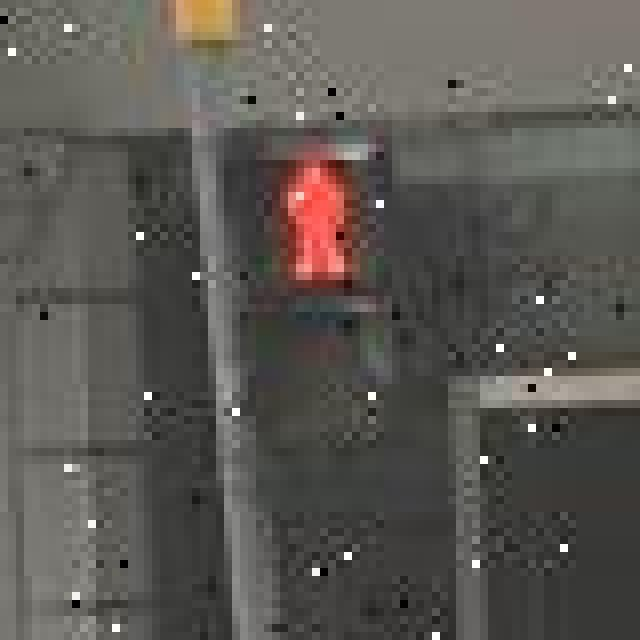redlight: (220, 121, 402, 457)
